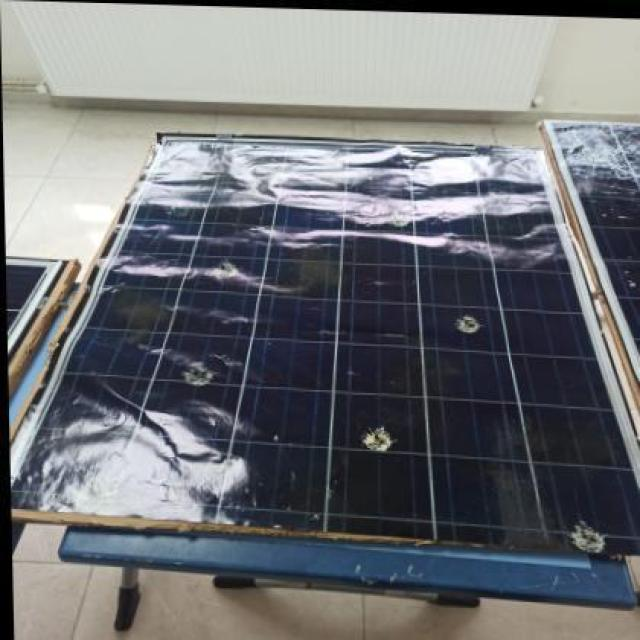soiled: (24, 249, 640, 556)
